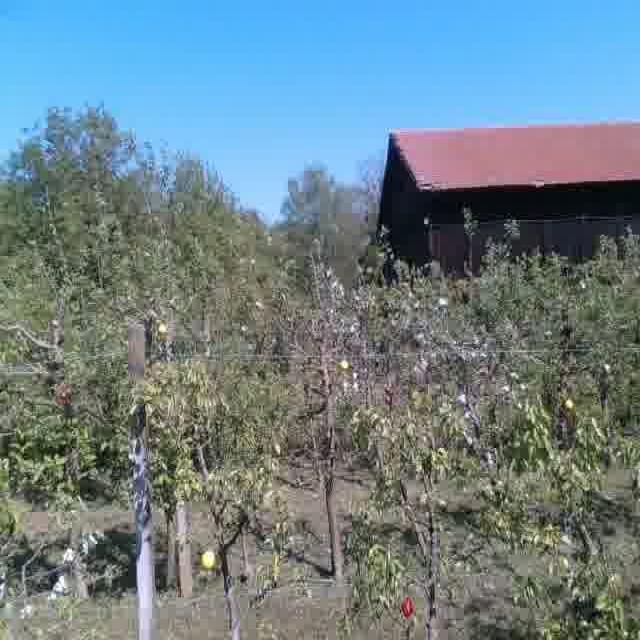red: (400, 596, 416, 621), (58, 383, 74, 407)
yellow: (201, 548, 218, 574), (158, 322, 168, 338), (566, 396, 576, 409), (341, 359, 350, 372)
